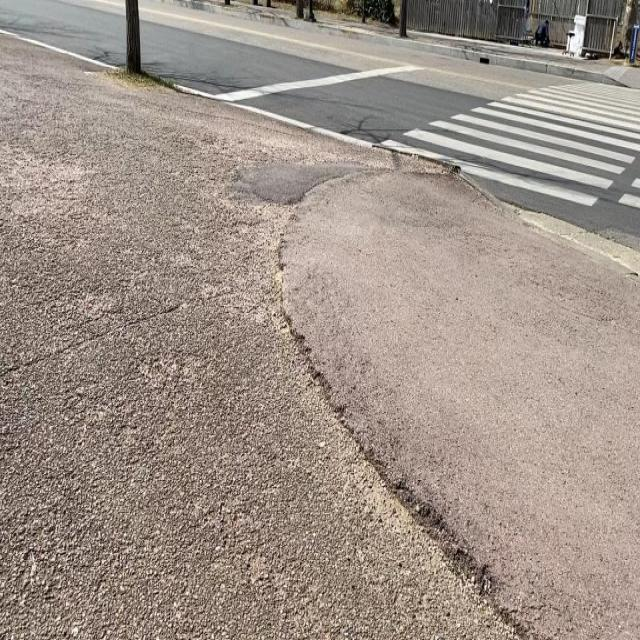sidewalk: (0, 33, 640, 639)
